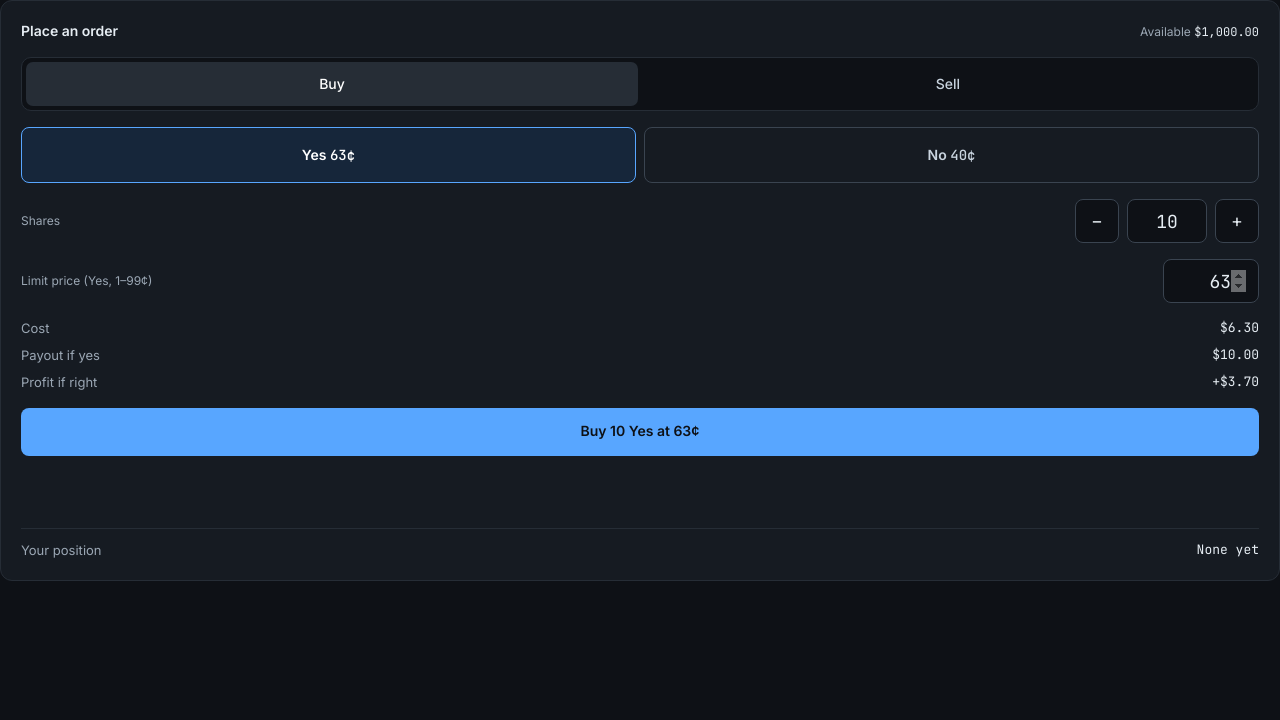
OrderTicket › shows the server's rejection message
This screenshot has width=1280, height=720.
Click the button with test id "ticket-submit" at (640,432), box [21,408,1259,456]
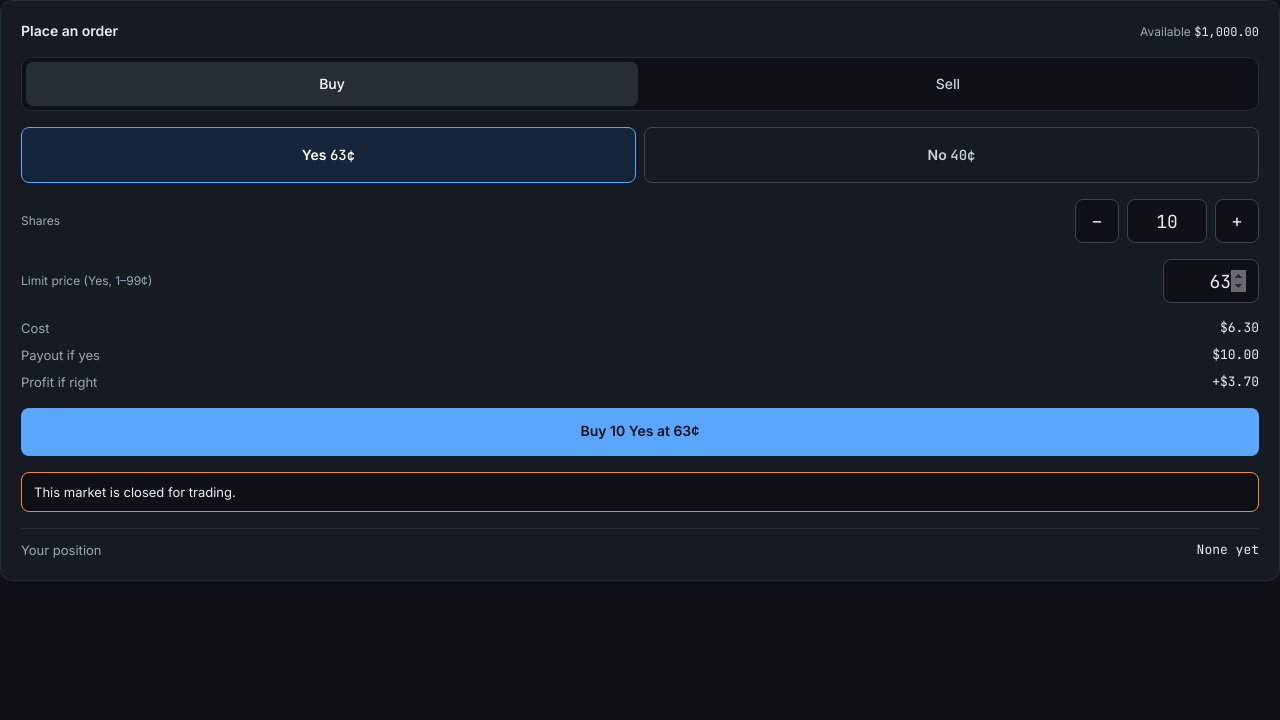
Check: the message with test id "ticket-toast" reads "This market is closed for trading.", box [34,484,236,500]
